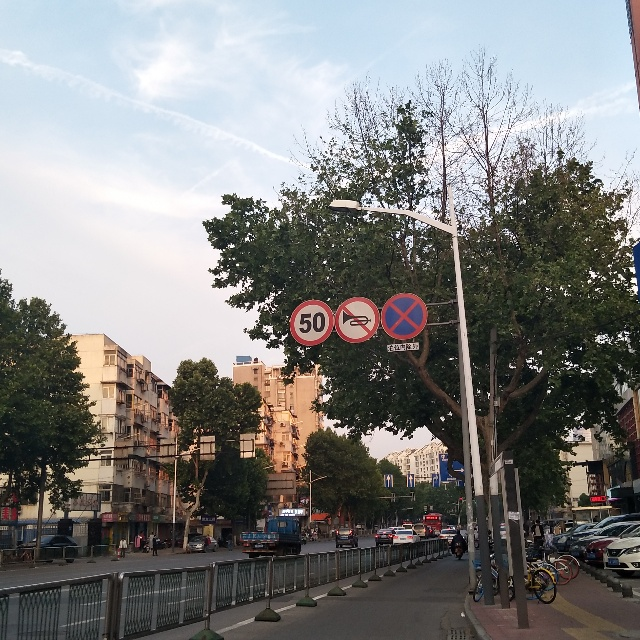nohonk: (337, 303, 378, 336)
stop: (385, 297, 425, 338)
